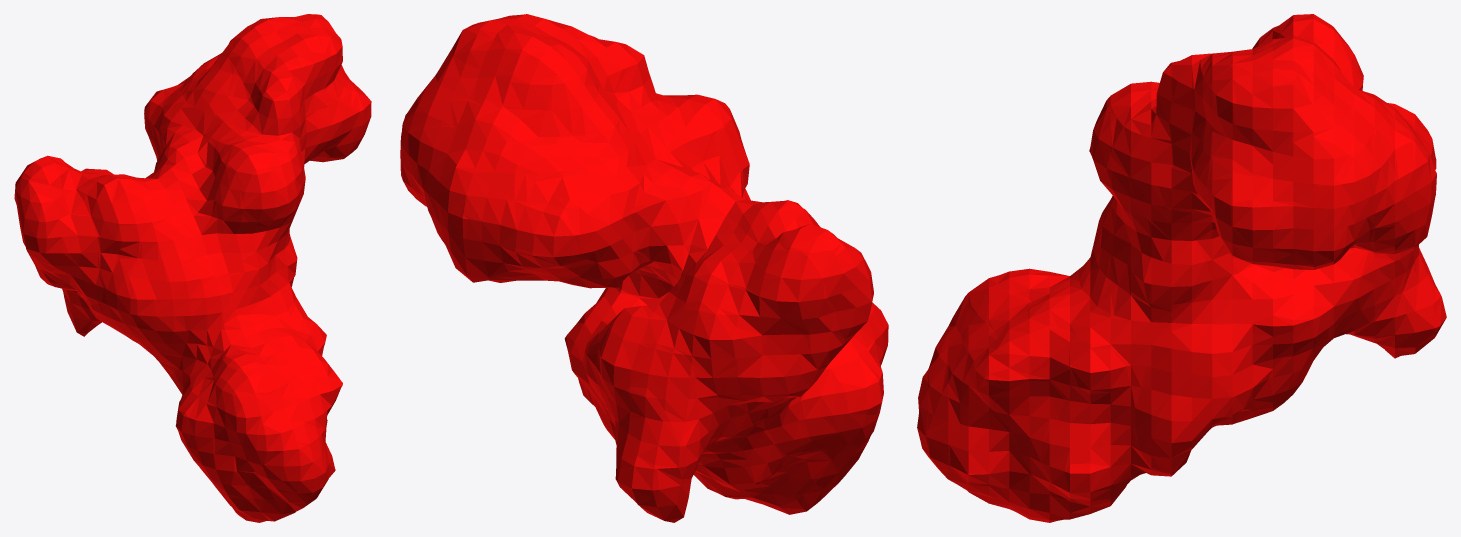
Rendered from proS_coarse.dae.
3 views of the same model, side by side, from view 1: azimuth 30°, elevation 25°; view 2: azimuth 150°, elevation 25°; view 3: azimuth 270°, elevation 25° (orthographic). The views are drawn at different scales.
Visible parts, largest first — view 1: proS; view 2: proS; view 3: proS.
Part boxes in pixels (x1,y1,x2,y2): proS: (14, 14, 371, 522); proS: (400, 14, 888, 522); proS: (917, 14, 1446, 522).
Bounding box in the file's own units: 80.04 × 91.82 × 80.53.
